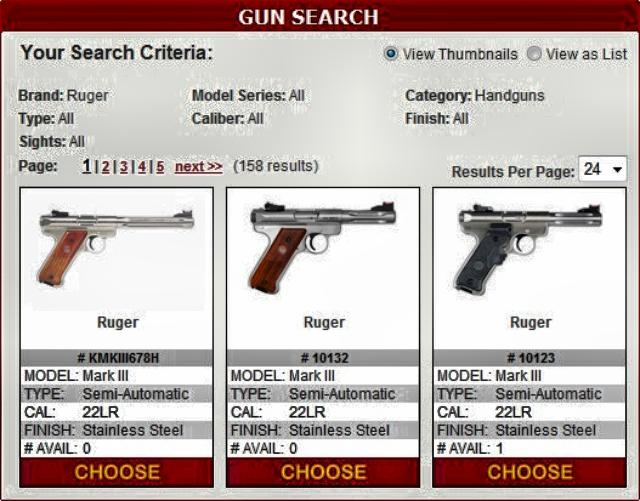pistol: (244, 201, 396, 292), (452, 204, 604, 292), (34, 208, 196, 286)
